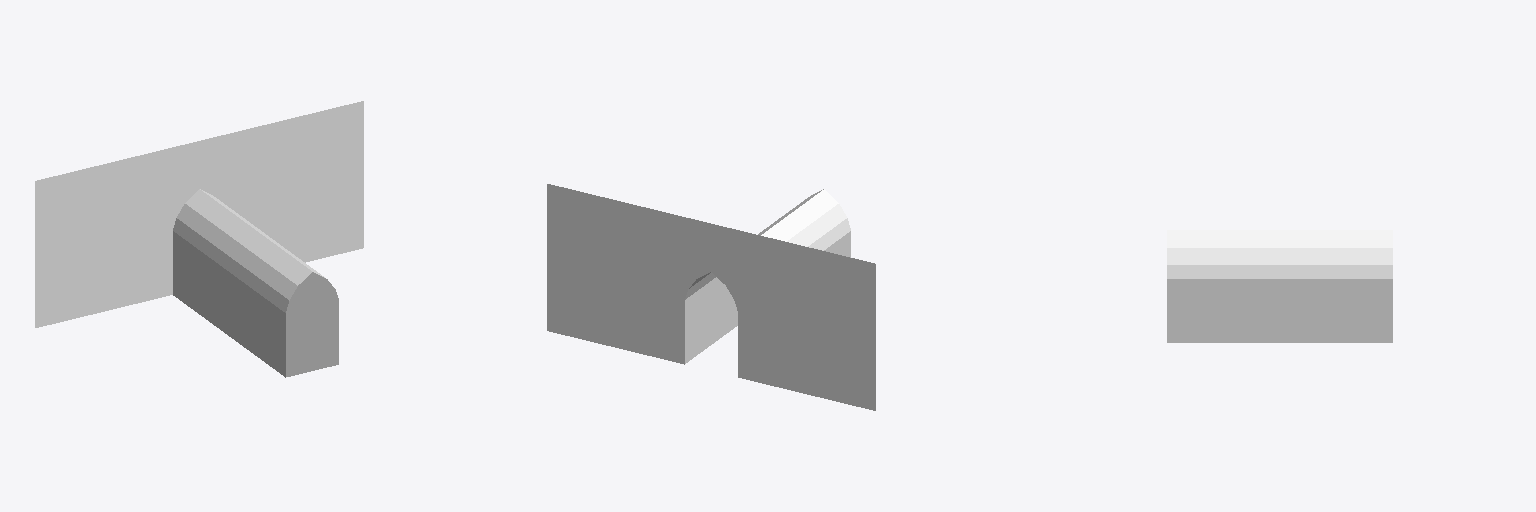
Rendered from ArchWall_03.obj.
3 renders of one model, left to right at view 1: azimuth 30°, elevation 25°; view 2: azimuth 150°, elevation 25°; view 3: azimuth 270°, elevation 25°, orthographic.
Parts seen in each view (by area): view 1: Wall_01__38_.001_Scene.002; view 2: Wall_01__38_.001_Scene.002; view 3: Wall_01__38_.001_Scene.002.
Part boxes in pixels (bbox=[...]): Wall_01__38_.001_Scene.002: bbox=[35, 101, 363, 377]; Wall_01__38_.001_Scene.002: bbox=[547, 184, 875, 410]; Wall_01__38_.001_Scene.002: bbox=[1167, 230, 1392, 342].
Bounding box in the file's own units: 14 × 6 × 8.33.